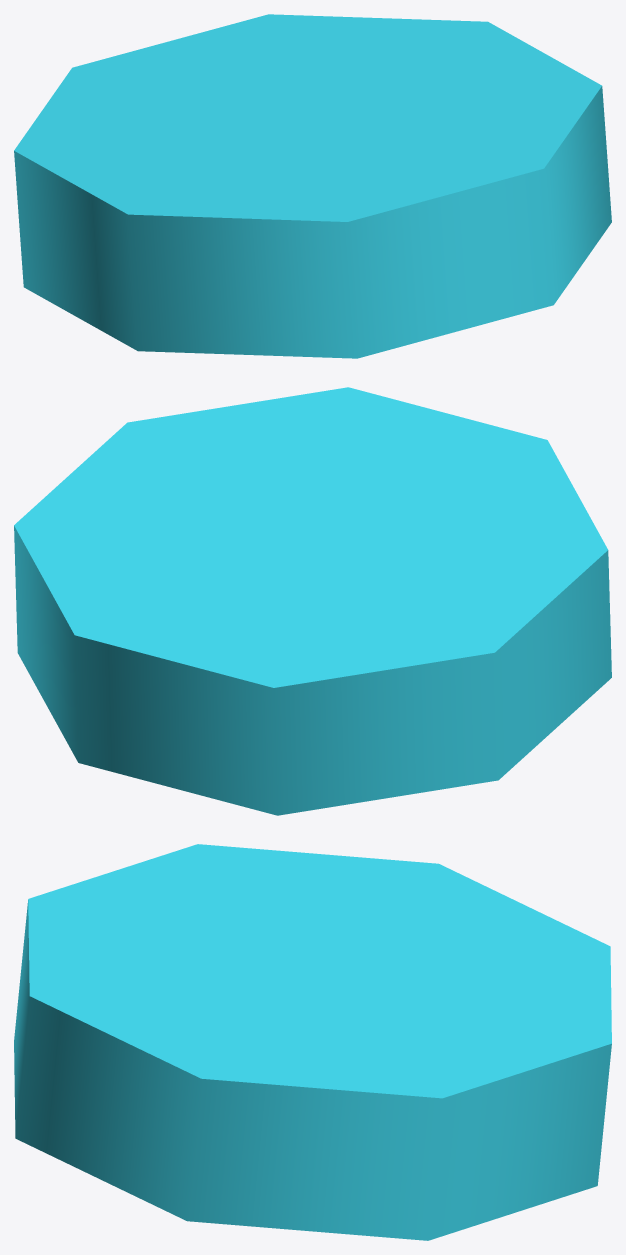
3 renders of one model, top to bottom at view 1: azimuth 30°, elevation 25°; view 2: azimuth 150°, elevation 25°; view 3: azimuth 270°, elevation 25°, orthographic. The views are drawn at different scales.
Visible parts, largest first — view 1: Cylinder_8; view 2: Cylinder_8; view 3: Cylinder_8.
Boxes of the visible parts, left/top/right/bottom form: Cylinder_8: left=14, top=14, right=611, bottom=358; Cylinder_8: left=14, top=387, right=611, bottom=815; Cylinder_8: left=14, top=844, right=611, bottom=1240.
Bounding box in the file's own units: 0.1914 × 0.0697 × 0.1943.
